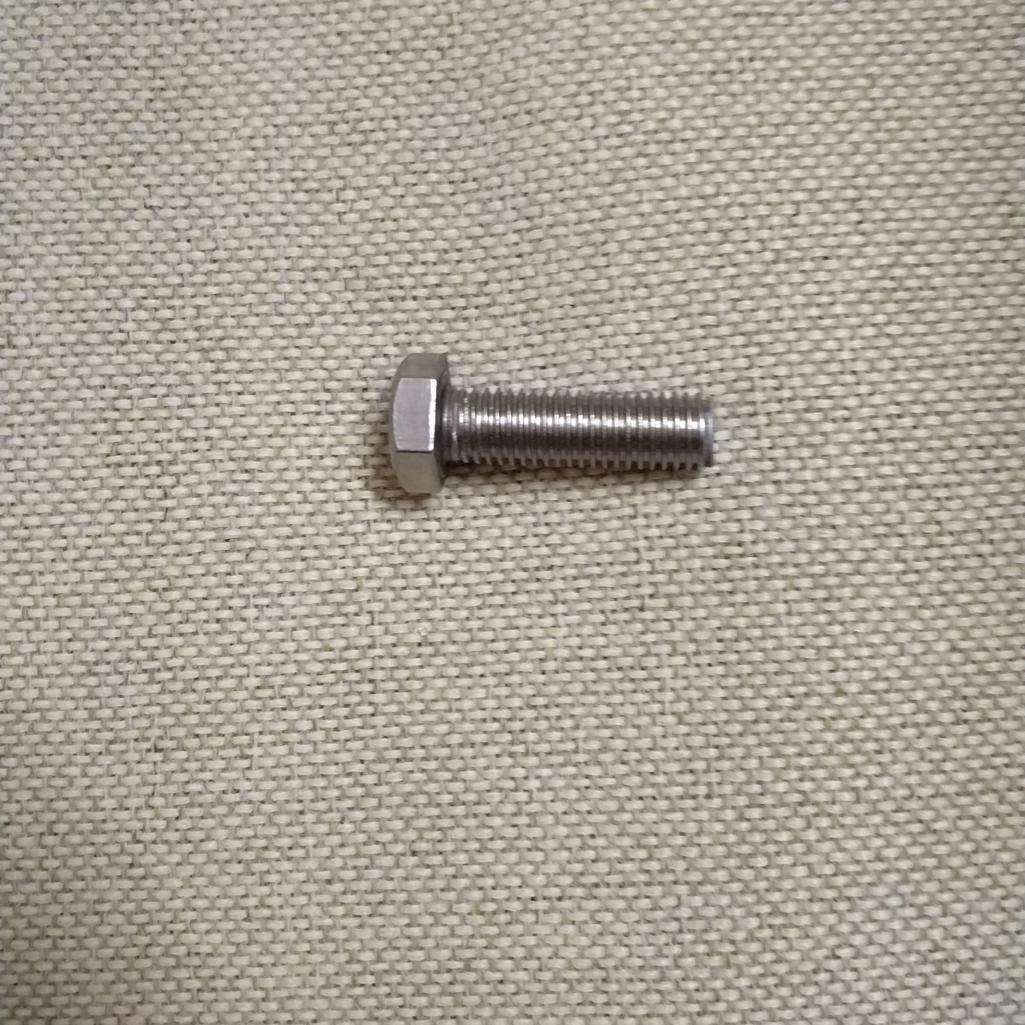screwtype2silver: (388, 345, 716, 513)
